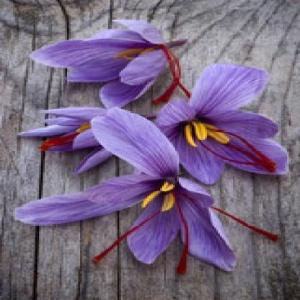Saffron: (15, 110, 246, 262), (152, 65, 290, 181), (30, 21, 174, 109), (18, 107, 152, 172)
